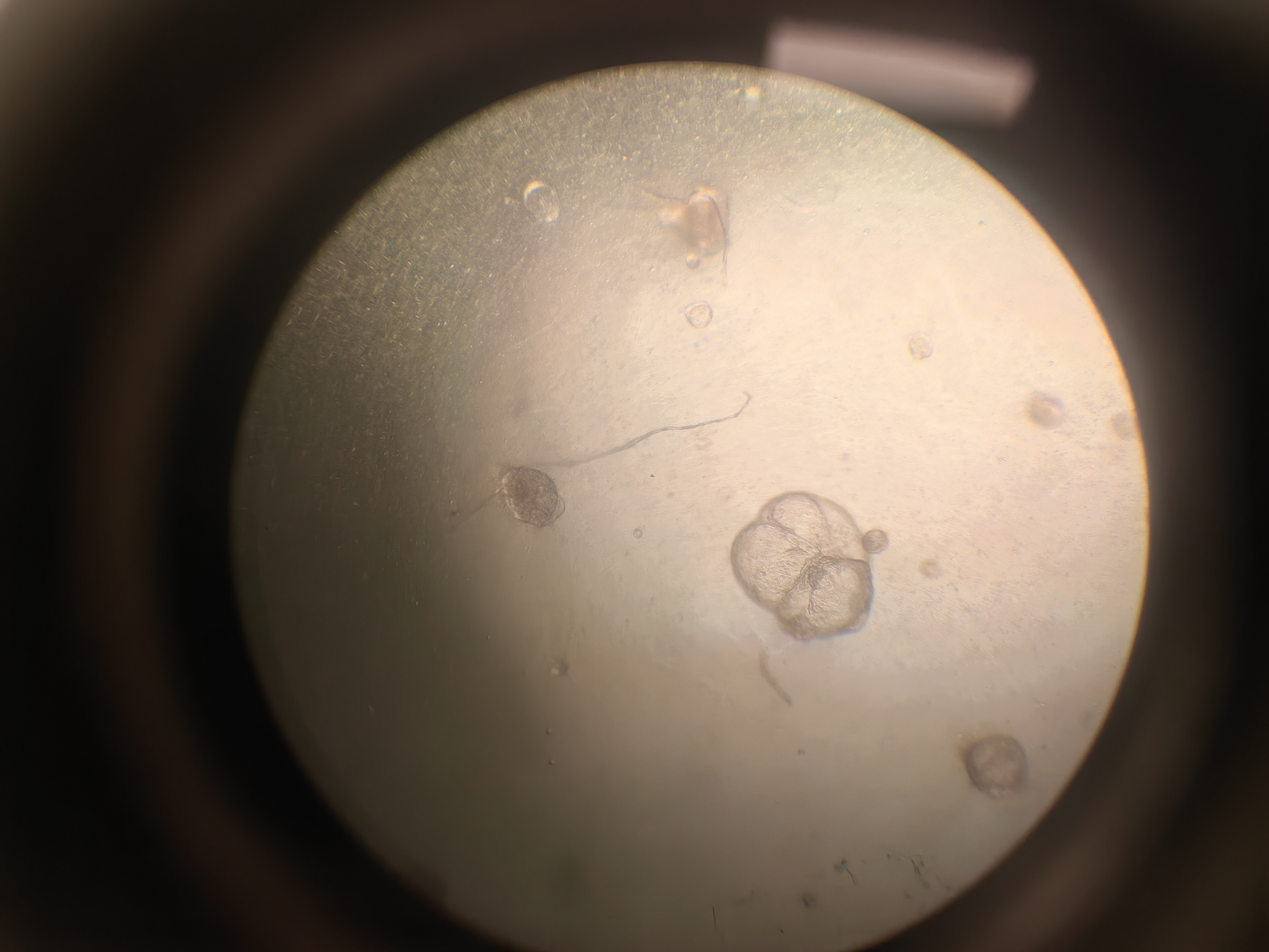organoid: (748, 428, 820, 505), (1005, 458, 1070, 505)
